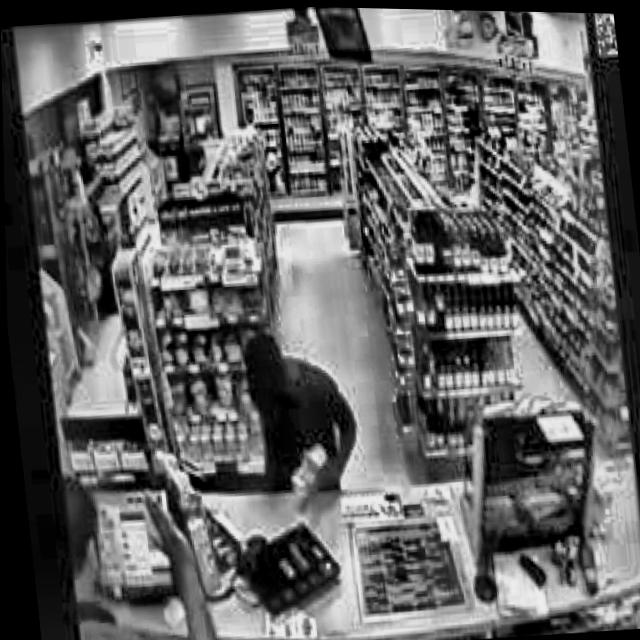robbery: (220, 318, 373, 530), (60, 459, 218, 640)
